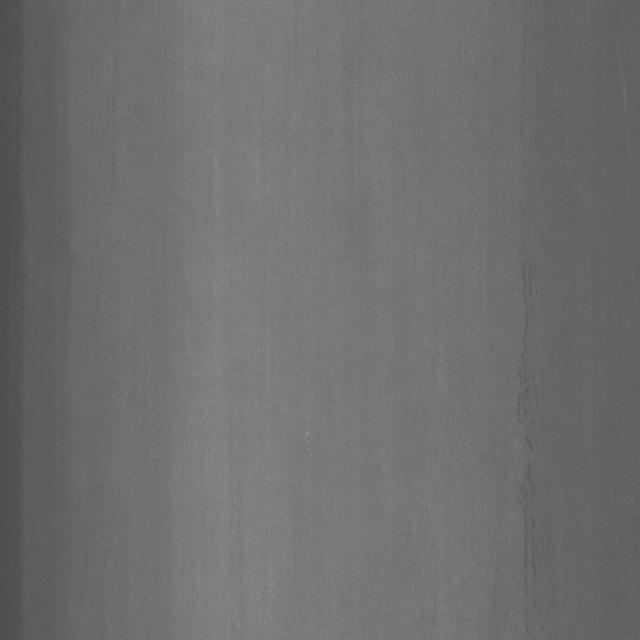inclusion: (506, 174, 572, 591)
